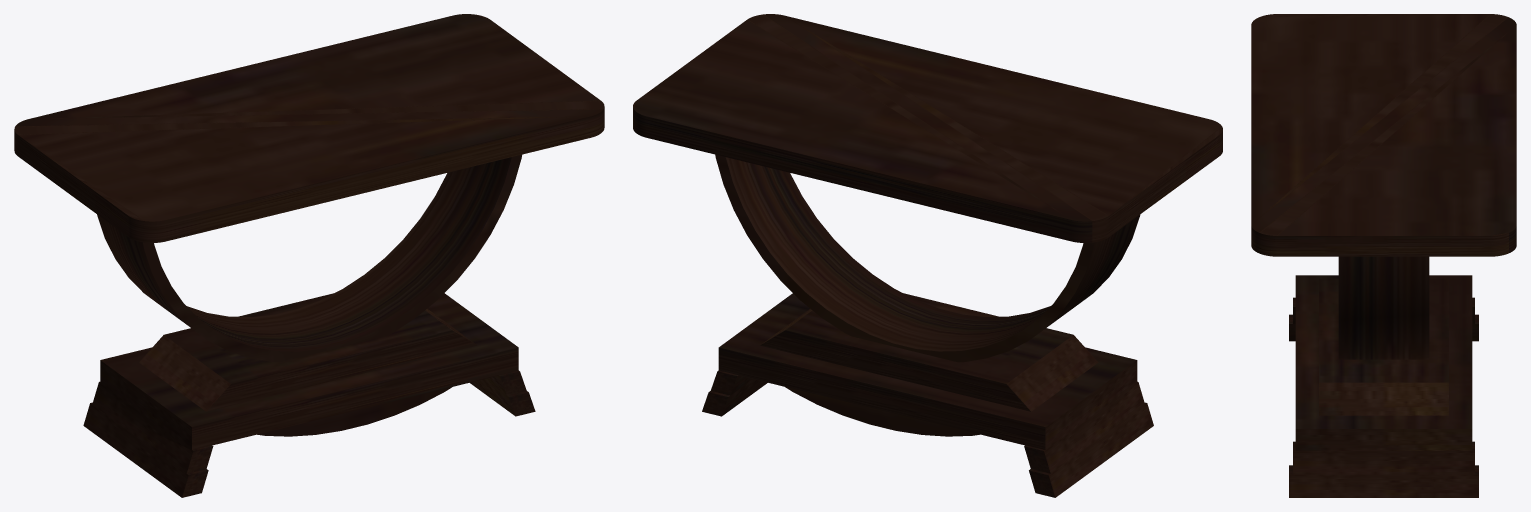
Rendered from side table_1.glb.
The picture shows the model from 3 angles, left to right: view 1: azimuth 30°, elevation 25°; view 2: azimuth 150°, elevation 25°; view 3: azimuth 270°, elevation 25°; orthographic projection. The views are drawn at different scales.
Parts seen in each view (by area): view 1: pCube10; view 2: pCube10; view 3: pCube10.
Boxes of the visible parts, box(x1,y1,x2,y2) form: pCube10: box(14, 14, 604, 497); pCube10: box(633, 14, 1222, 497); pCube10: box(1251, 14, 1516, 497).
Size of the model in its own units: 0.1546 by 0.0941 by 0.0781.
1 material, 1 textured.
